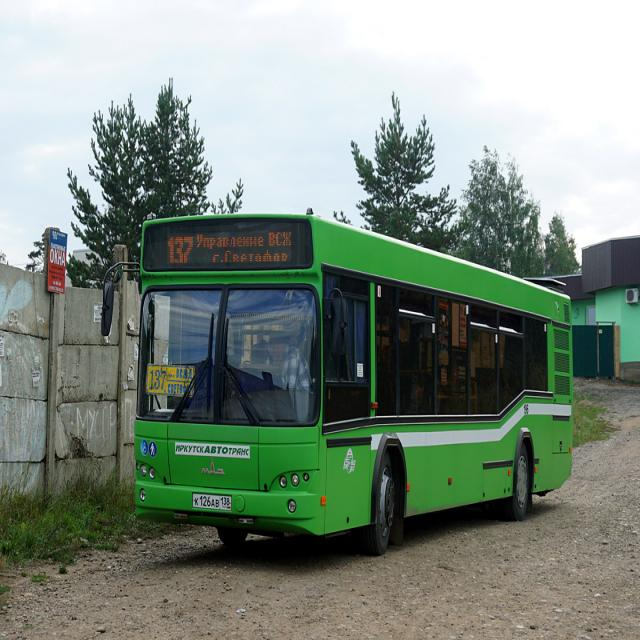number-of-bus: (168, 235, 195, 267), (149, 368, 167, 393)
